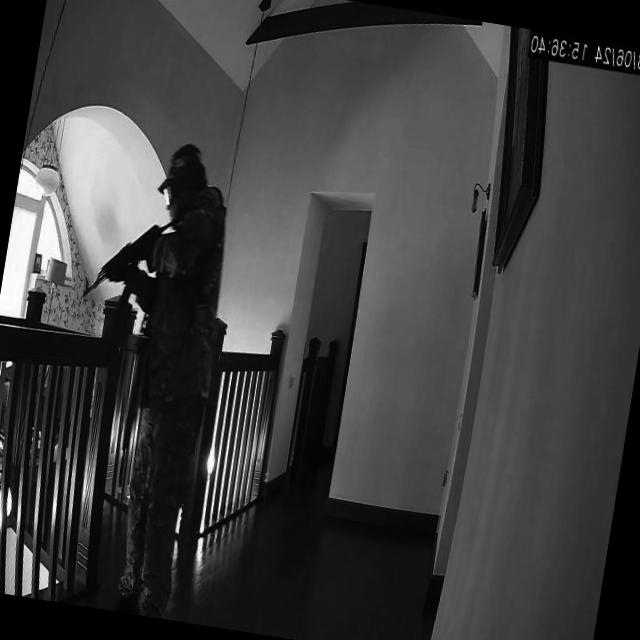gun: (76, 187, 190, 321)
person with a gun: (32, 124, 245, 618)
